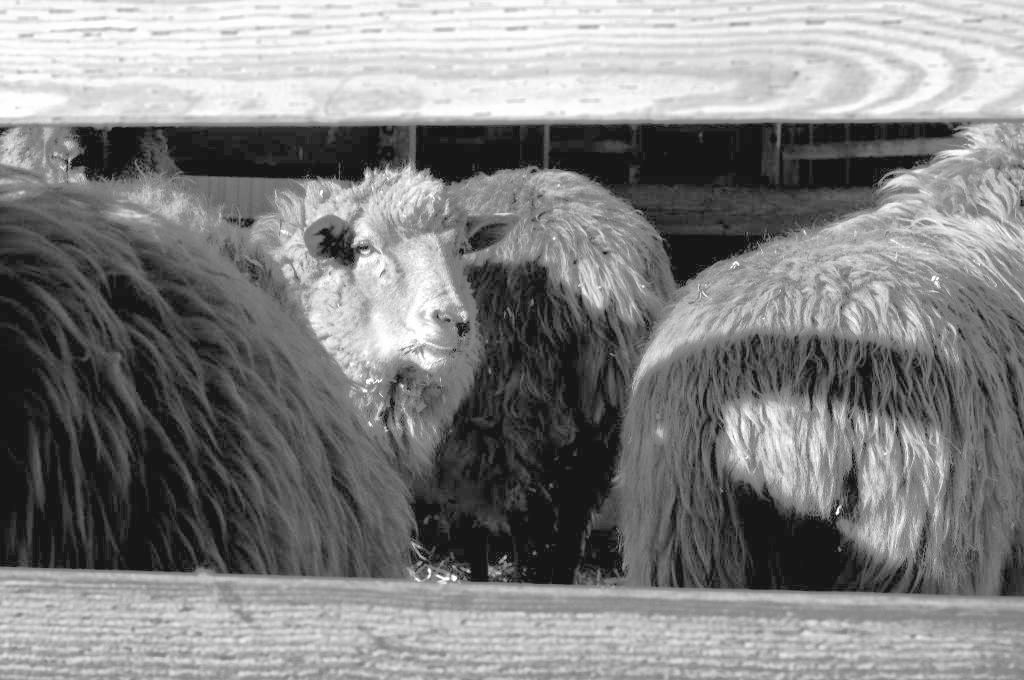Sheep: (0, 159, 522, 582), (613, 114, 1024, 604), (411, 160, 686, 588)
